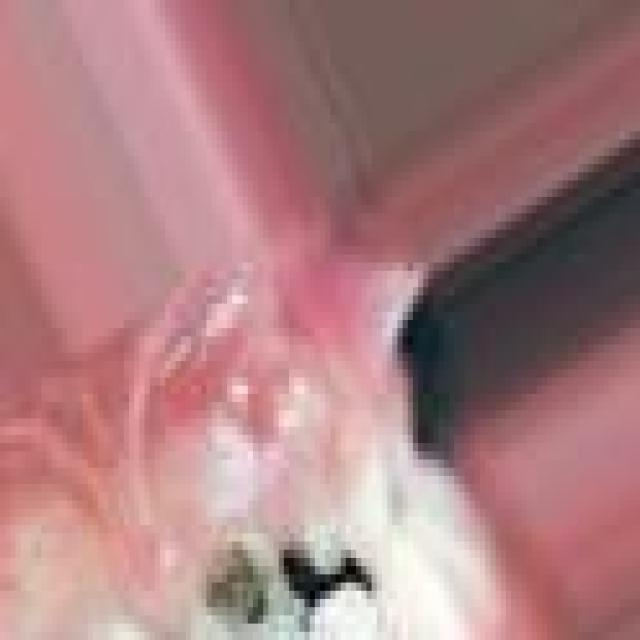caries: (193, 507, 307, 640)
